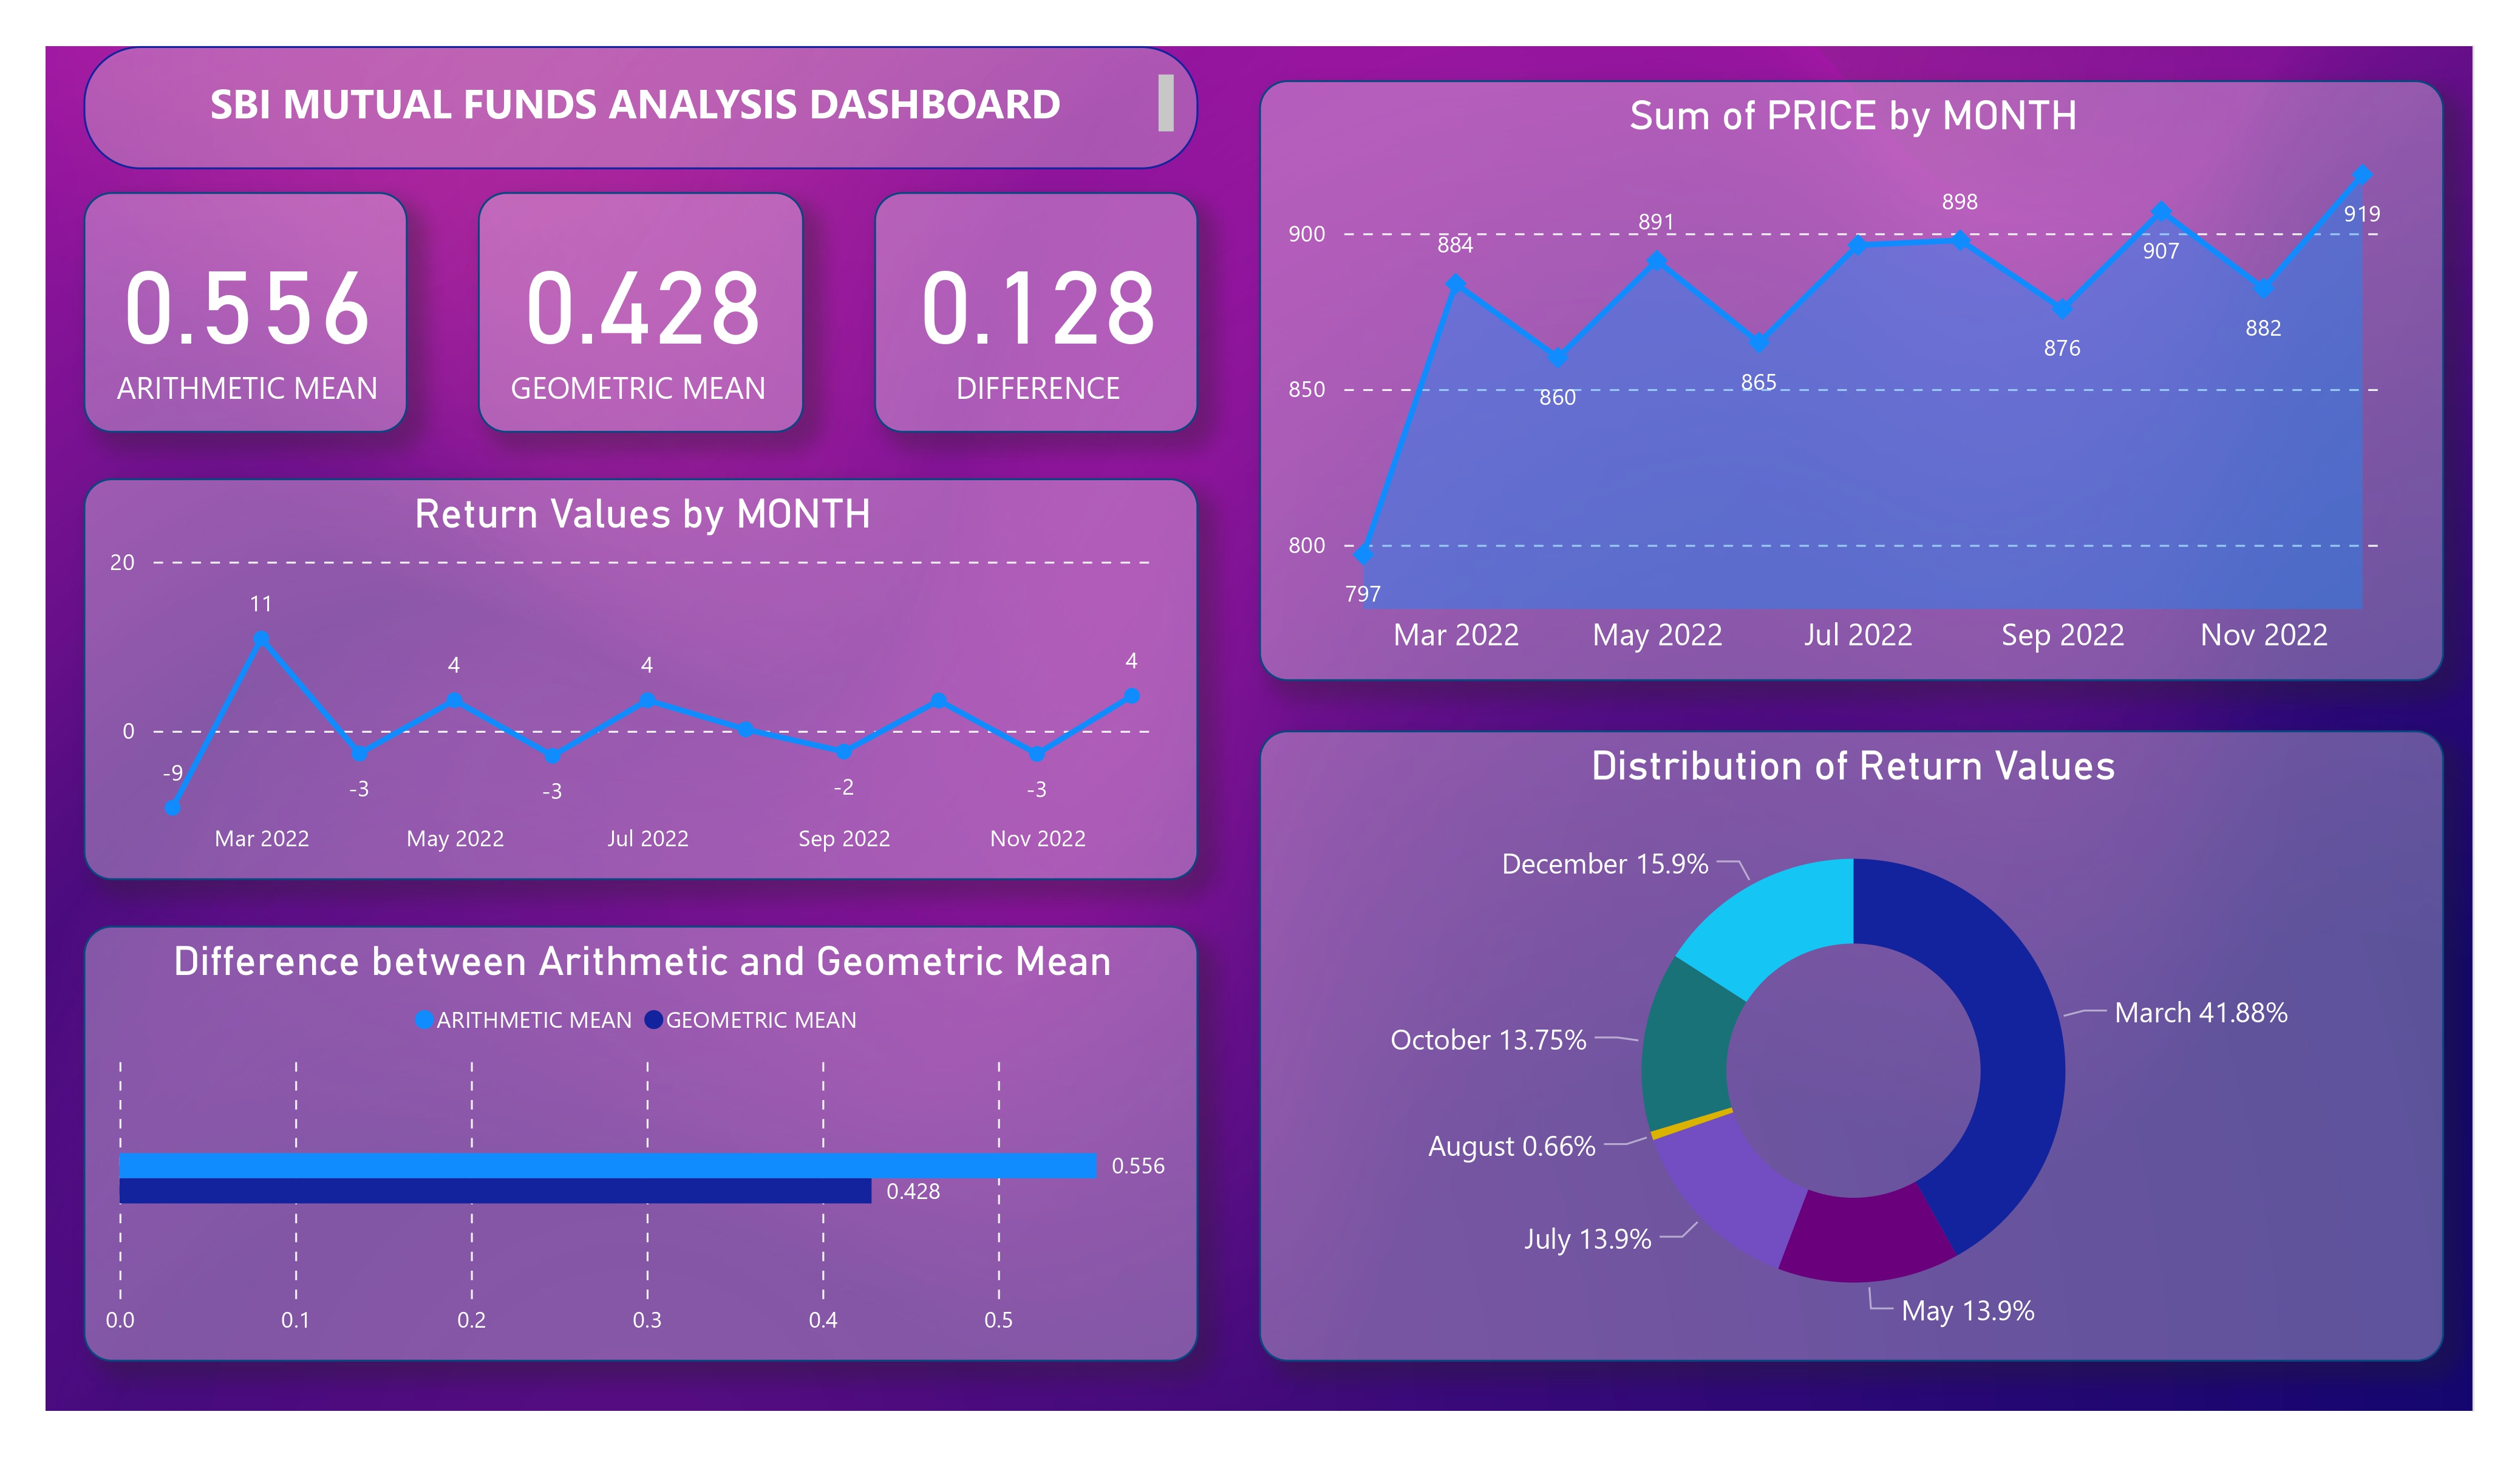

Layout of this report page (visuals, bound fields, positions):
{"tool":"powerbi","page":{"name":"SBI","canvas":[1280,720],"ordinal":4},"visuals":[{"type":"textbox","box":[19.5,0,589,64.6],"z":0},{"type":"lineChart","title":"Return Values by MONTH","fields":{"Category":["AXIS.MONTH.Variation.Date Hierarchy.Year","AXIS.MONTH.Variation.Date Hierarchy.Quarter","AXIS.MONTH.Variation.Date Hierarchy.Month","AXIS.MONTH.Variation.Date Hierarchy.Day"],"Y":["Sum(SBI.RETURN)"]},"box":[19.5,228.4,589,211.8],"z":1000},{"type":"areaChart","fields":{"Category":["AXIS.MONTH"],"Y":["Sum(SBI.PRICE)"]},"box":[640,18,625,317],"z":2000},{"type":"donutChart","title":"Distribution of Return Values","fields":{"Category":["AXIS.MONTH.Variation.Date Hierarchy.Month","AXIS.MONTH.Variation.Date Hierarchy.Day"],"Y":["Sum(SBI.RETURN)"]},"box":[640,360.6,625,333.5],"z":3000},{"type":"clusteredBarChart","title":"Difference between Arithmetic and Geometric Mean","fields":{"Y":["CountNonNull(sbi (2).ARITHMETIC MEAN)","Sum(sbi (2).GEOMETRIC MEAN )"]},"box":[19.5,464.3,589,229.9],"z":4000},{"type":"card","fields":{"Values":["CountNonNull(sbi (2).ARITHMETIC MEAN)"]},"box":[19.5,76.6,171.3,127.7],"z":5000},{"type":"card","fields":{"Values":["Sum(sbi (2).GEOMETRIC MEAN )"]},"box":[228.4,76.6,171.3,127.7],"z":6000},{"type":"card","fields":{"Values":["Sum(sbi (2).DIFFERENCE)"]},"box":[437.2,76.6,171.3,127.7],"z":7000}]}

Visuals, with their boxes on the page's 1280x720 design canvas (x1, y1, x2, y2). These are canvas units, not pixel positions in the 2520x1457 screenshot, which may show the page scaled, cropped or inside an application window:
textbox: detection(20, 0, 608, 65)
"Return Values by MONTH" lineChart: detection(20, 228, 608, 440)
areaChart - AXIS.MONTH x Sum(SBI.PRICE): detection(640, 18, 1265, 335)
"Distribution of Return Values" donutChart: detection(640, 361, 1265, 694)
"Difference between Arithmetic and Geometric Mean" clusteredBarChart: detection(20, 464, 608, 694)
card - CountNonNull(sbi (2).ARITHMETIC MEAN): detection(20, 77, 191, 204)
card - Sum(sbi (2).GEOMETRIC MEAN ): detection(228, 77, 400, 204)
card - Sum(sbi (2).DIFFERENCE): detection(437, 77, 608, 204)
